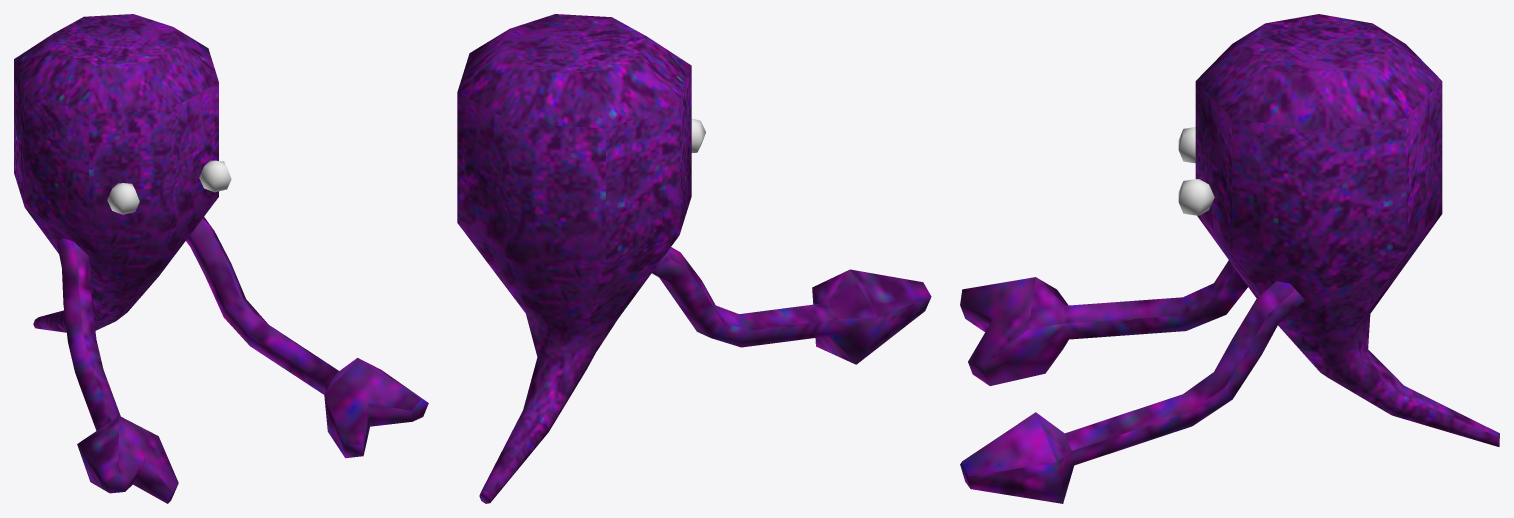
The model's file is ShadowMan.fbx.
3 views of the same model, side by side, from view 1: azimuth 30°, elevation 25°; view 2: azimuth 150°, elevation 25°; view 3: azimuth 270°, elevation 25° (orthographic). The views are drawn at different scales.
Visible parts, largest first — view 1: Body, Arm.l, Arm.r, Eye.r, Eye.l; view 2: Body, Arm.r; view 3: Body, Arm.l, Arm.r, Eye.l.
Part boxes in pixels (x1=…): Body: x1=14, y1=14, x2=218, y2=332; Arm.l: x1=186, y1=217, x2=428, y2=458; Arm.r: x1=56, y1=238, x2=178, y2=503; Eye.r: x1=107, y1=183, x2=139, y2=214; Eye.l: x1=199, y1=160, x2=231, y2=192; Body: x1=457, y1=14, x2=691, y2=503; Arm.r: x1=652, y1=247, x2=931, y2=364; Body: x1=1195, y1=14, x2=1499, y2=446; Arm.l: x1=960, y1=281, x2=1305, y2=503; Arm.r: x1=960, y1=260, x2=1247, y2=385; Eye.l: x1=1178, y1=179, x2=1214, y2=215.
Size of the model in its own units: 2.11 by 2.15 by 2.63.
